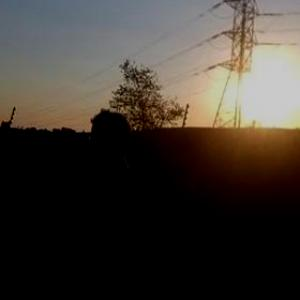follow: (54, 104, 158, 299)
